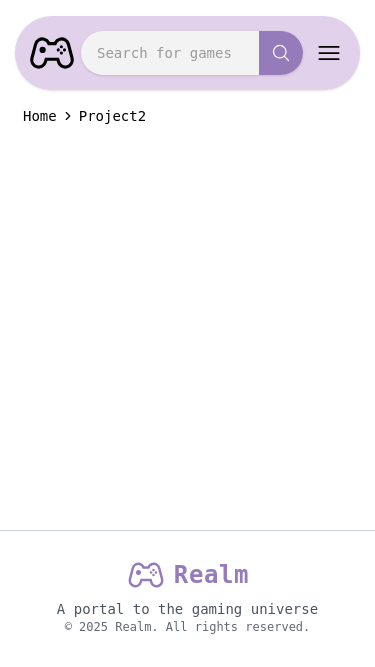
Test: Navbar: check interaction and responsiveness for mobile and desktop › Mobile resolution › Opens mobile sheet menu when clicking menu button
The image size is (375, 667).
Click the button named "Open mobile menu": (332, 53) [315, 33, 348, 73]
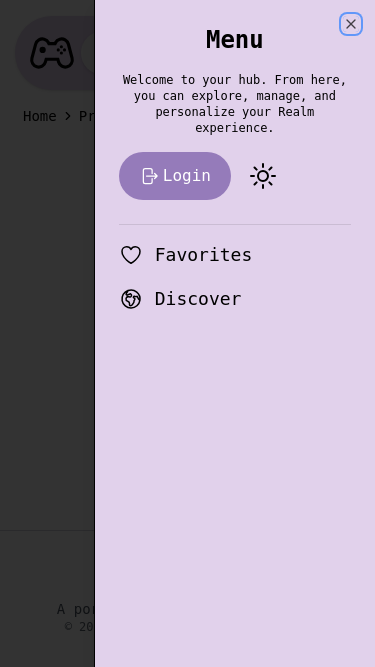
Check: the dialog is shown
